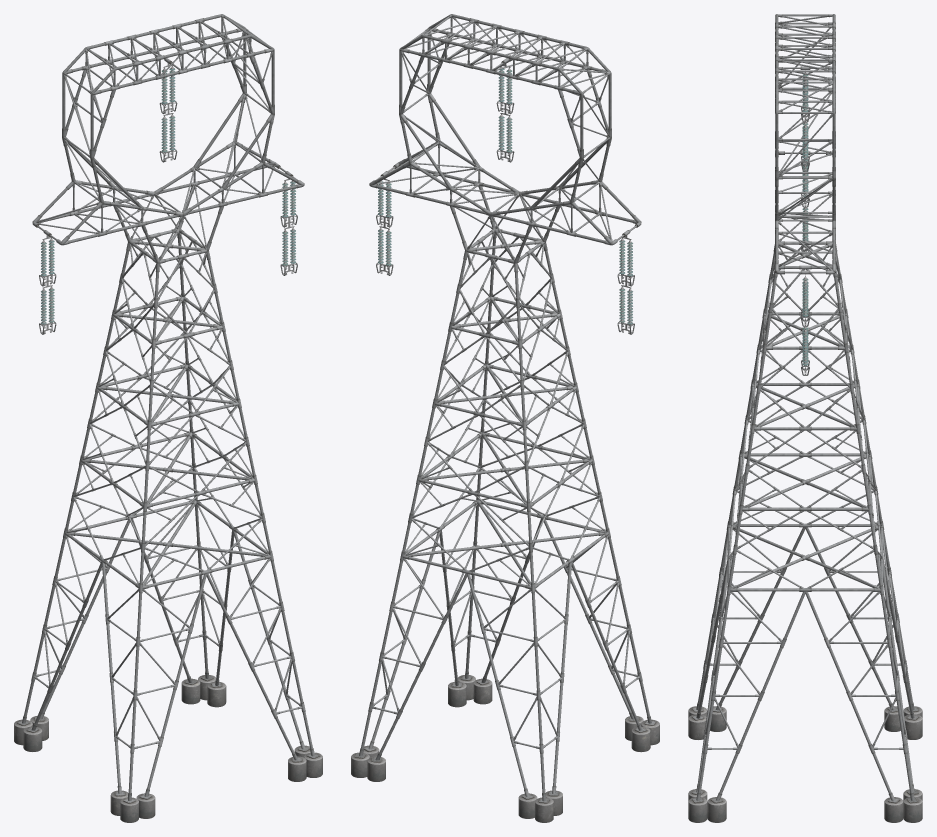
File: Tower.fbx
3 renders of one model, left to right at view 1: azimuth 30°, elevation 25°; view 2: azimuth 150°, elevation 25°; view 3: azimuth 270°, elevation 25°, orthographic.
Visible parts, largest first — view 1: RenderCrate_Power_Transmission_Tower_Single; view 2: RenderCrate_Power_Transmission_Tower_Single; view 3: RenderCrate_Power_Transmission_Tower_Single.
Part boxes in pixels (<box>): RenderCrate_Power_Transmission_Tower_Single: <box>14,14,322,822</box>; RenderCrate_Power_Transmission_Tower_Single: <box>351,14,659,822</box>; RenderCrate_Power_Transmission_Tower_Single: <box>688,14,922,822</box>.
Size of the model in its own units: 782 by 2102 by 614.
Materials: 1 (1 with a texture image).
